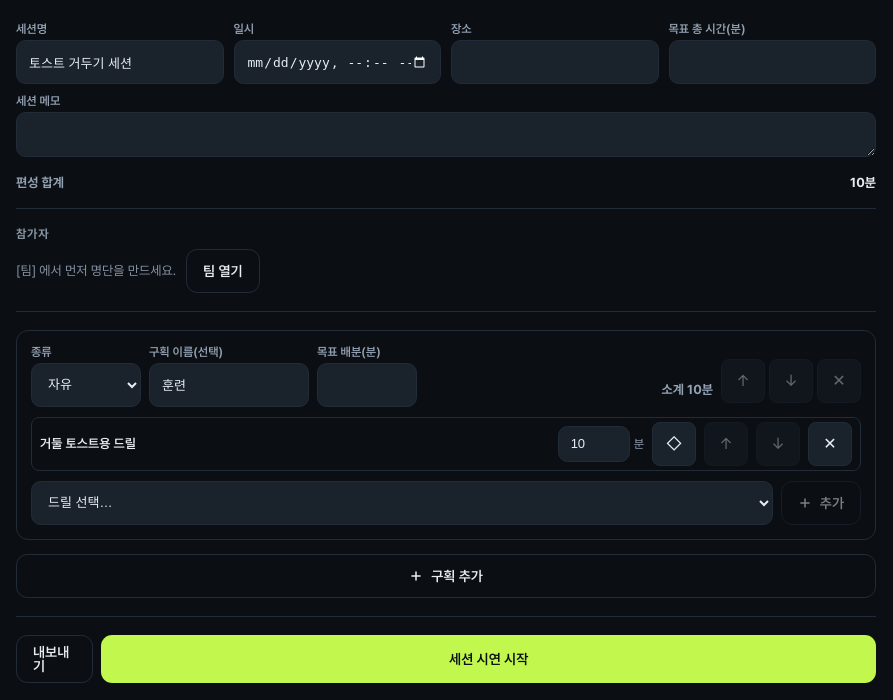
SessionEditorScreen › 삭제 되돌리기 토스트(§C-3) › 되돌리기 토스트가 떠 있는 동안 다른 저장을 하면 그 토스트를 거둔다(§H-3 위험)
Expected: the field labelled "세션명" is shown, [16,40,224,84]
Click the button named "거둘 토스트용 드릴 제거" at (830, 444), box [808,422,852,466]
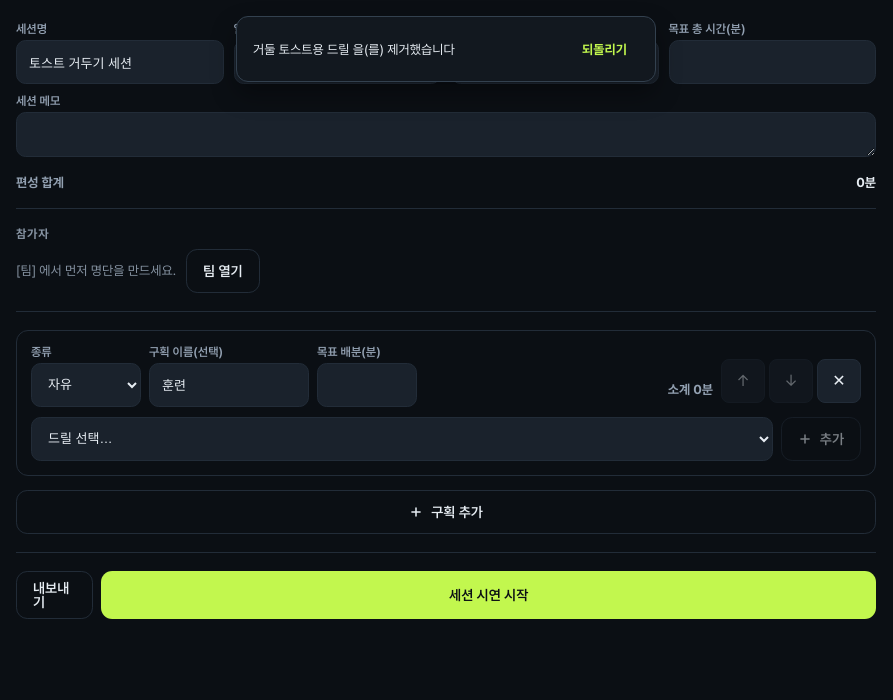
Expected: the message "거둘 토스트용 드릴 을(를) 제거했습니다 되돌리기" is shown, [236,16,656,82]
Replace the text in the field labelled "세션명" with "이름 바뀜" at (120, 62), box [16,40,224,84]
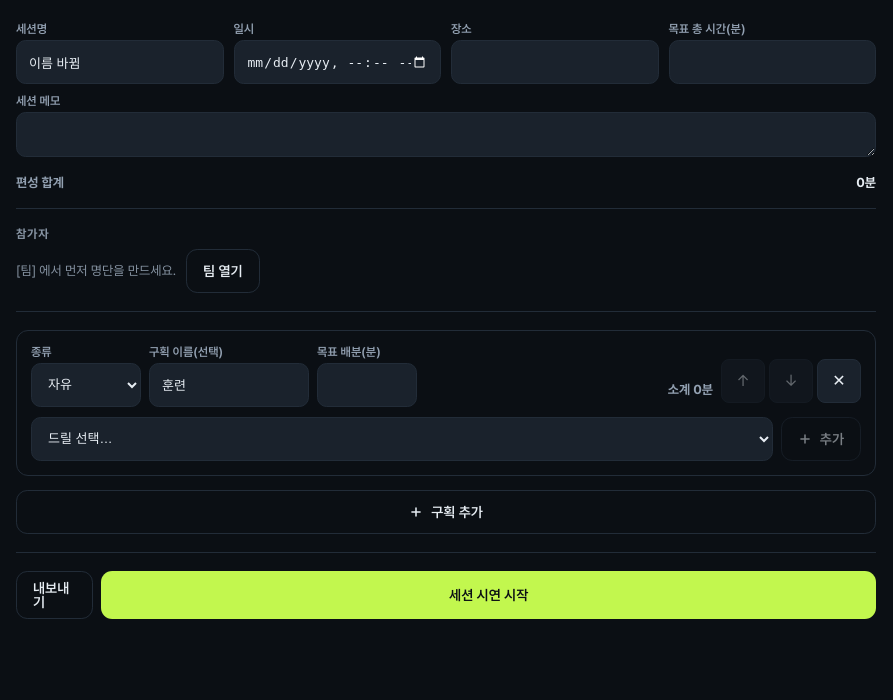
Expected: the message "거둘 토스트용 드릴 을(를) 제거했습니다 되돌리기" is gone
